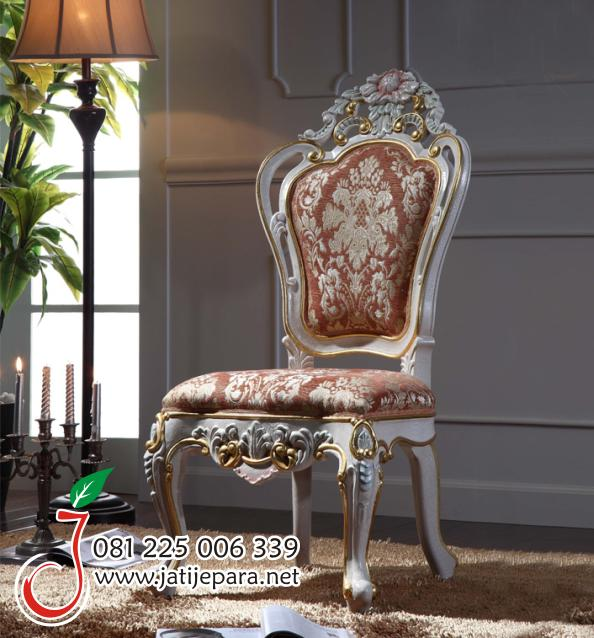Carving Chair: (132, 92, 483, 620)
